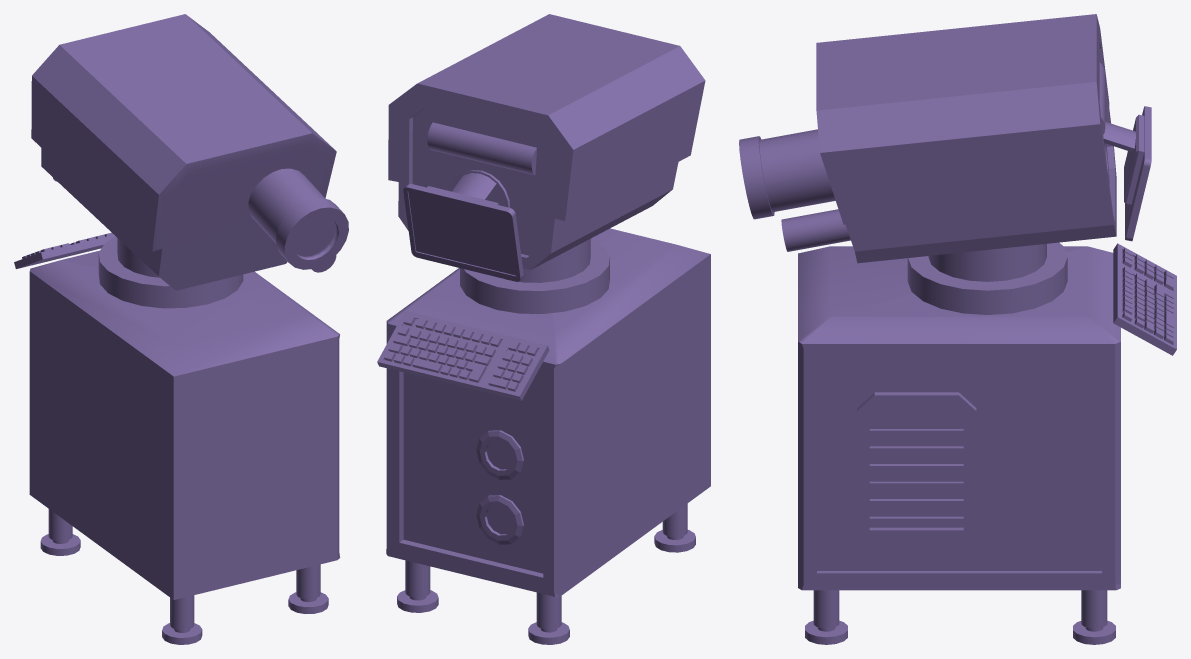
File: Projector.fbx
3 renders of one model, left to right at view 1: azimuth 30°, elevation 25°; view 2: azimuth 150°, elevation 25°; view 3: azimuth 270°, elevation 25°, orthographic. The views are drawn at different scales.
Parts seen in each view (by area): view 1: Projector; view 2: Projector; view 3: Projector.
Part boxes in pixels (box(x1,y1,x2,y2)): Projector: box(14, 14, 348, 644); Projector: box(377, 14, 710, 644); Projector: box(739, 14, 1176, 644).
Bounding box in the file's own units: 61.06 × 165 × 118.
